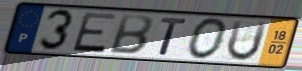3: (36, 8, 77, 53)
B: (106, 13, 154, 56)
E: (70, 11, 119, 55)
O: (185, 16, 230, 62)
T: (157, 16, 189, 57)
U: (224, 19, 270, 63)
